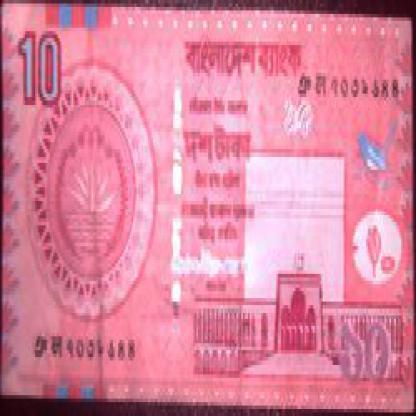Ten Taka: (336, 308, 396, 392), (18, 28, 67, 118)
